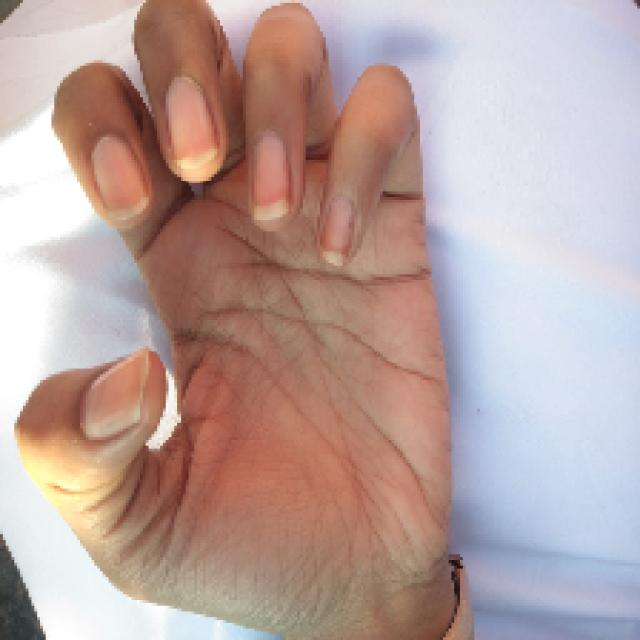Nail: (80, 351, 148, 439), (165, 76, 218, 168), (91, 136, 149, 219), (252, 130, 290, 221), (323, 195, 356, 263)
